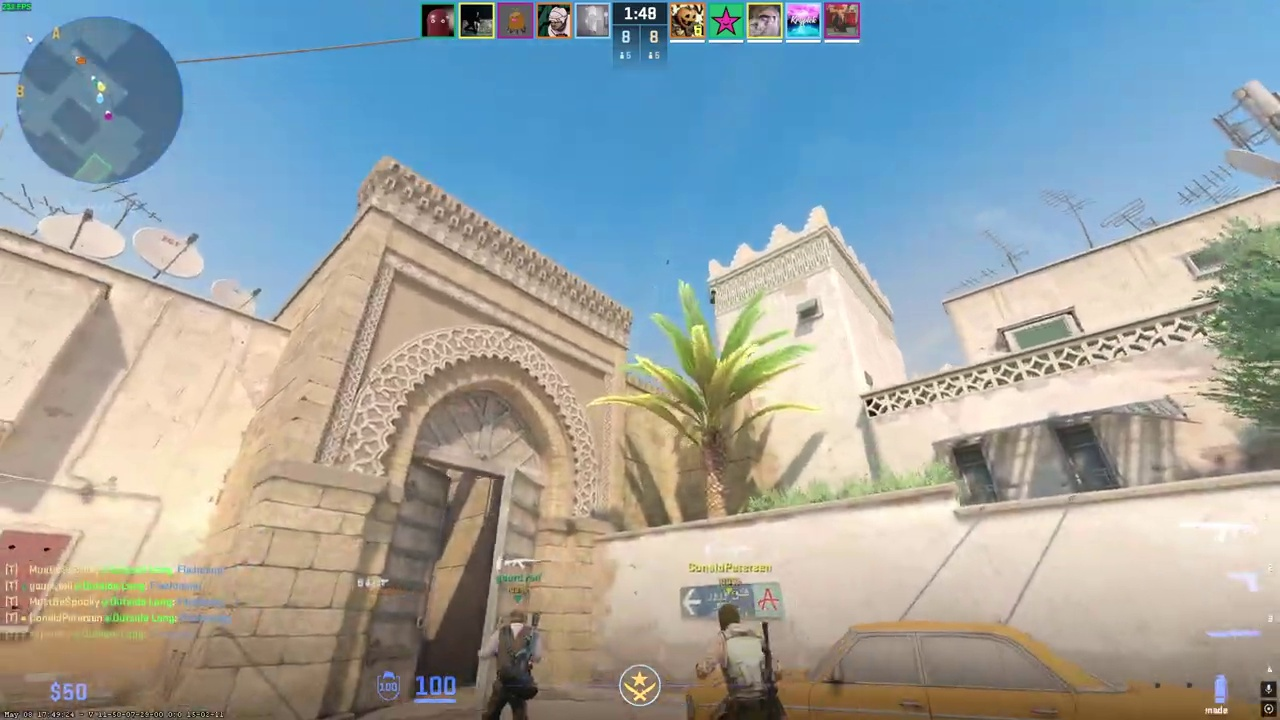Terrorist: (694, 604, 784, 720), (478, 608, 543, 720)
